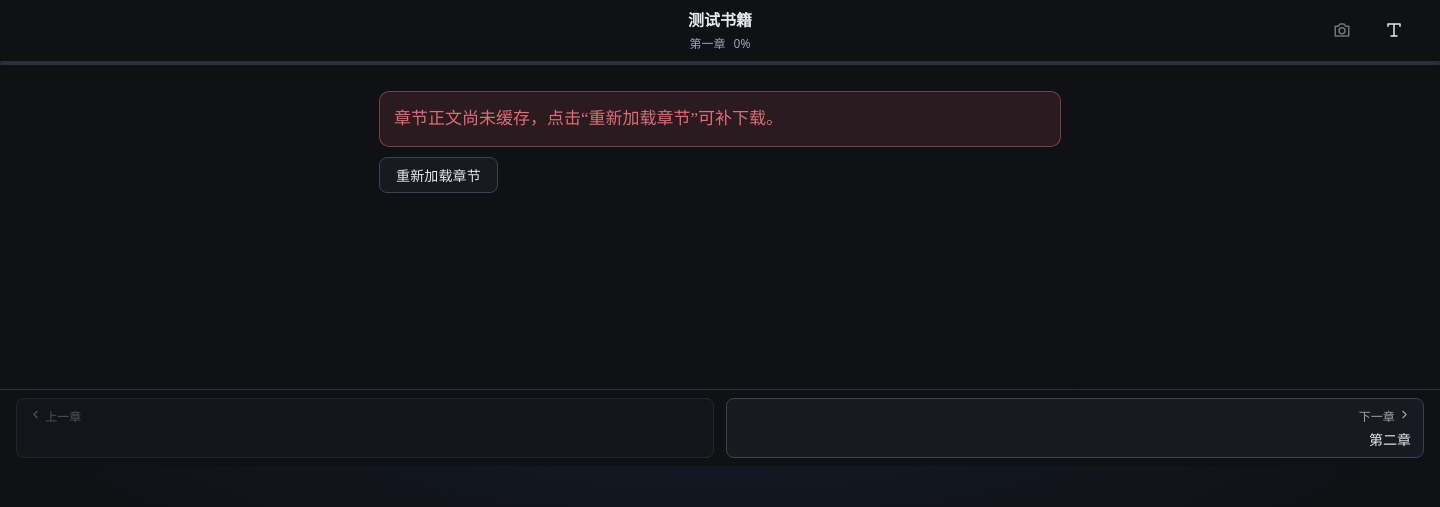
Test: repairs a missing body only on explicit retry and reads the next chapter normally
Expected: the message reads "章节正文尚未缓存，点击“重新加载章节”可补下载。", [394,109,783,128]
Click the button "重新加载章节". click: (438, 175)
box: [379,157,498,193]
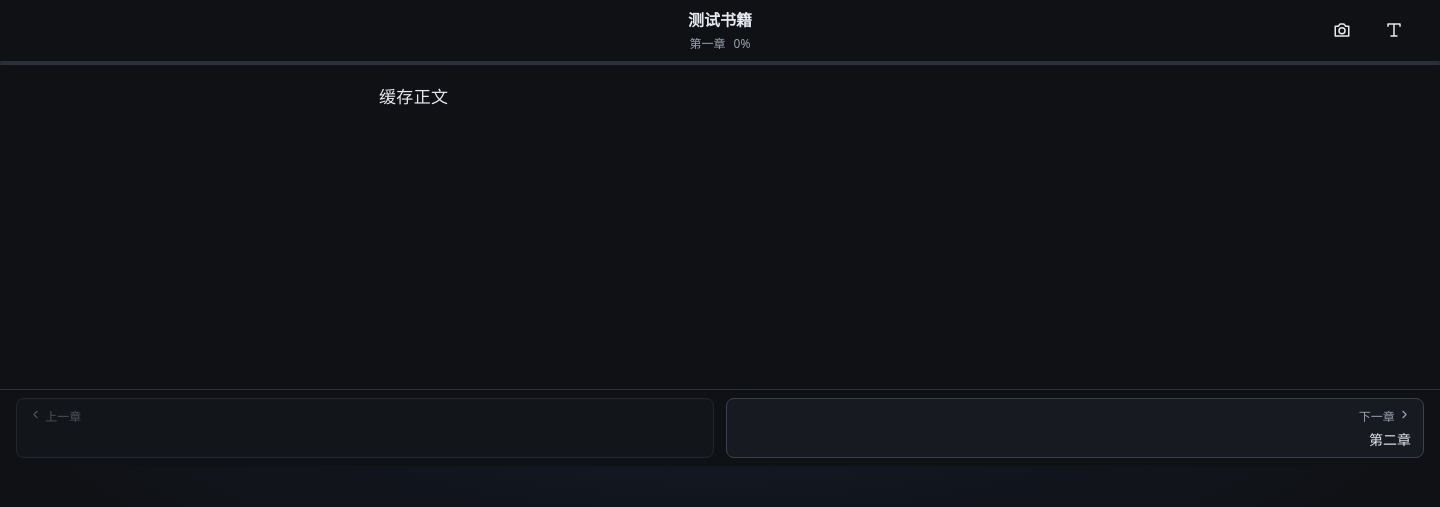
Result: the text "缓存正文" is shown at [379,88,448,107]
Click the button "下一章 第二章". click: (1377, 416)
box: [726,398,1424,458]
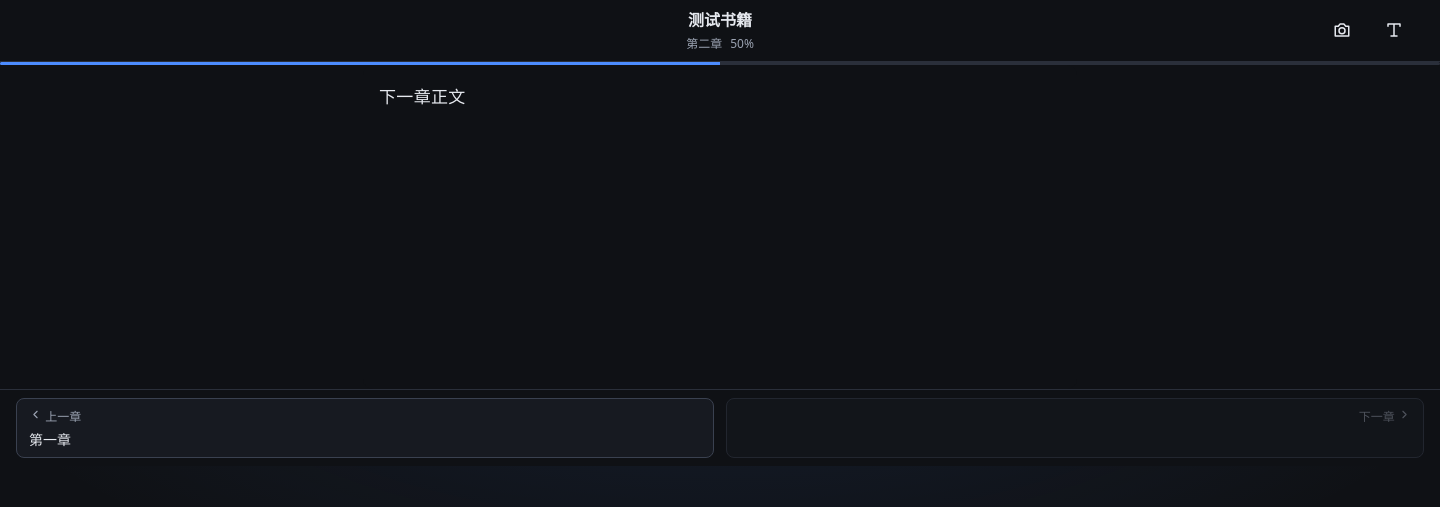
Result: the text "下一章正文" is shown at [379,88,466,107]
Click the button "上一章 第一章". click: (63, 416)
box: [16,398,714,458]
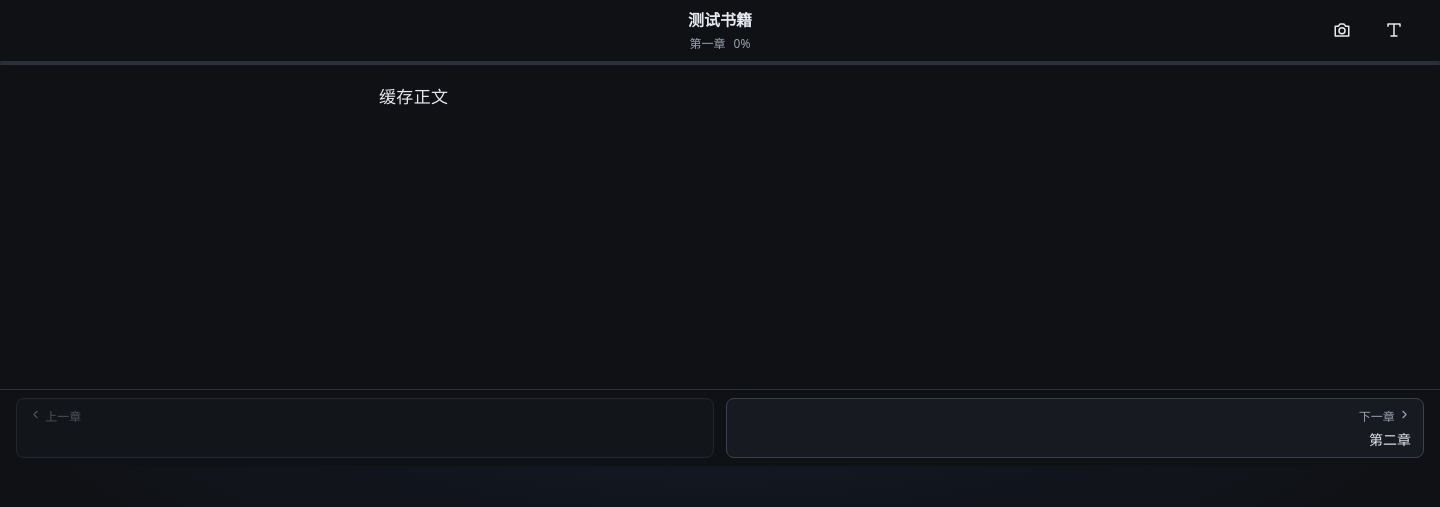
Result: the text "缓存正文" is shown at [379,88,448,107]
